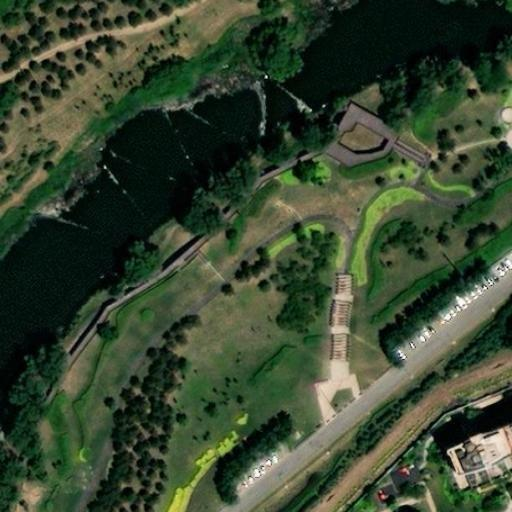building: (431, 443, 512, 507), (328, 118, 405, 185), (387, 457, 423, 491)
